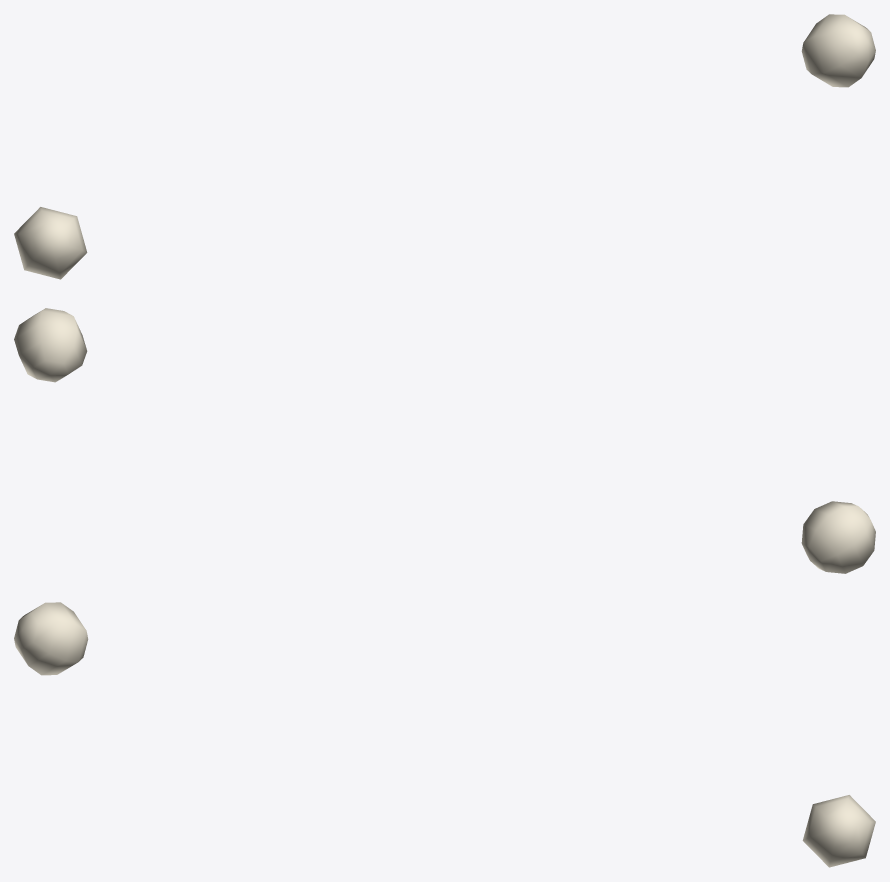
The model's file is Earring_1.fbx.
3 renders of one model, top to bottom at view 1: azimuth 30°, elevation 25°; view 2: azimuth 150°, elevation 25°; view 3: azimuth 330°, elevation 25°, orthographic.
Visible parts, largest first — view 1: Earring_1; view 2: Earring_1; view 3: Earring_1.
Part boxes in pixels (left/top/right/bottom): Earring_1: left=14, top=14, right=875, bottom=279; Earring_1: left=14, top=308, right=875, bottom=573; Earring_1: left=14, top=602, right=875, bottom=867.
Bounding box in the file's own units: 55.2 × 4.16 × 4.08.
